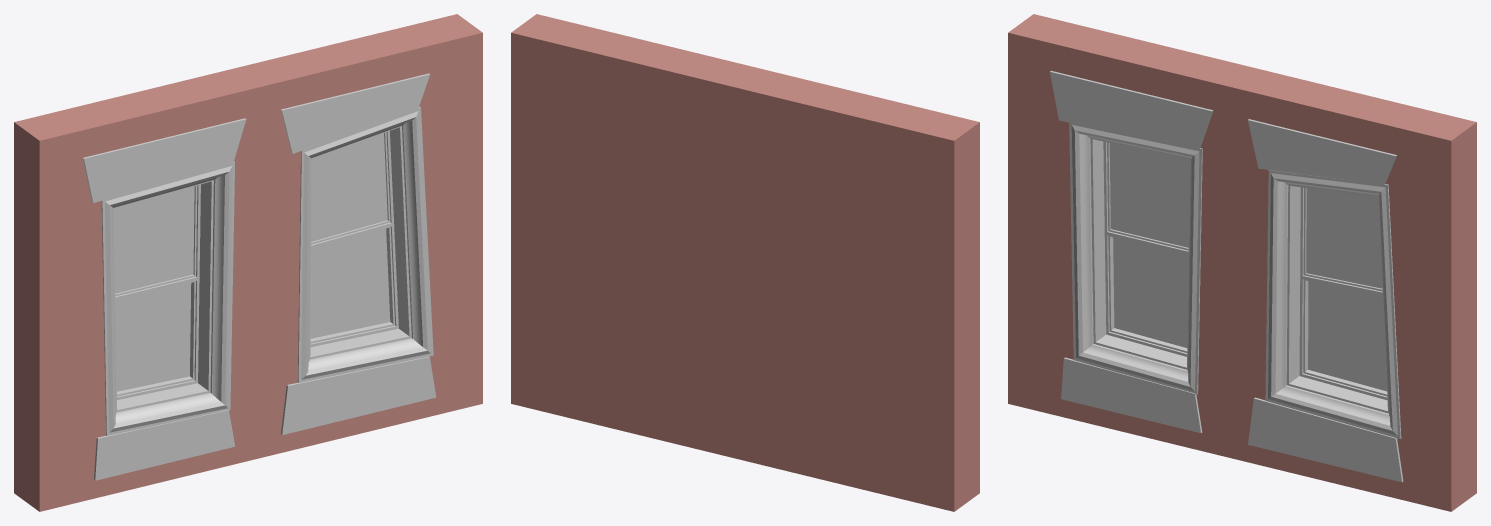
Rendered from SM_Modular_Windows.fbx.
The picture shows the model from 3 angles, left to right: view 1: azimuth 30°, elevation 25°; view 2: azimuth 150°, elevation 25°; view 3: azimuth 330°, elevation 25°; orthographic projection.
Parts seen in each view (by area): view 1: Wall_5x4.007, Plane.020, Plane.018, Plane.019; view 2: Wall_5x4.007; view 3: Wall_5x4.007, Plane.020, Plane.018, Plane.019.
Part boxes in pixels (x1,y1,x2,y2): Wall_5x4.007: (14, 14, 482, 511); Plane.020: (101, 161, 234, 435); Plane.018: (297, 107, 433, 382); Plane.019: (83, 73, 436, 480); Wall_5x4.007: (511, 14, 979, 511); Wall_5x4.007: (1008, 14, 1476, 511); Plane.020: (1069, 122, 1202, 394); Plane.018: (1265, 170, 1401, 439); Plane.019: (1050, 71, 1403, 482).
Size of the model in its own units: 500 by 400 by 53.21.
